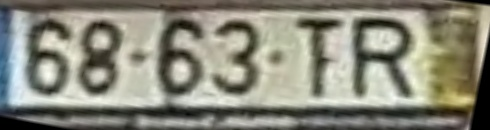3: (209, 18, 262, 99)
6: (21, 17, 74, 99), (156, 17, 206, 100)
8: (73, 17, 129, 100)
R: (352, 14, 417, 102)
T: (291, 18, 346, 102)
